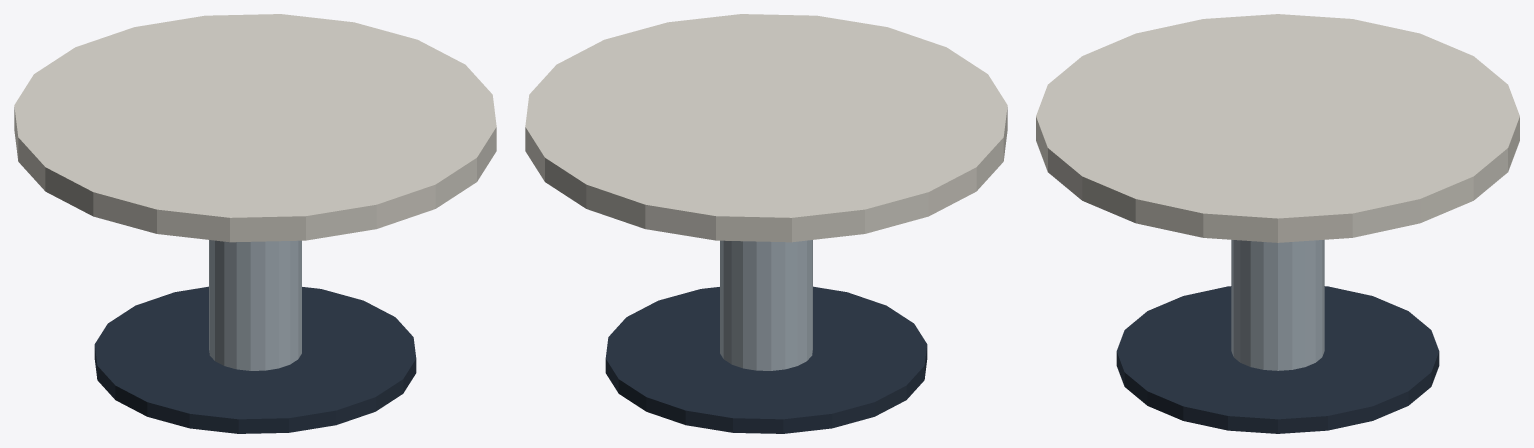
The model's file is lounge_04.glb.
The picture shows the model from 3 angles, left to right: view 1: azimuth 30°, elevation 25°; view 2: azimuth 150°, elevation 25°; view 3: azimuth 270°, elevation 25°; orthographic projection.
Parts seen in each view (by area): view 1: TableTop, MeetingFoot, Pedestal; view 2: TableTop, MeetingFoot, Pedestal; view 3: TableTop, MeetingFoot, Pedestal.
Part boxes in pixels (left/top/right/bottom): TableTop: left=14, top=14, right=496, bottom=242; MeetingFoot: left=94, top=286, right=416, bottom=433; Pedestal: left=209, top=240, right=301, bottom=370; TableTop: left=525, top=14, right=1007, bottom=242; MeetingFoot: left=605, top=286, right=927, bottom=433; Pedestal: left=720, top=240, right=812, bottom=370; TableTop: left=1036, top=14, right=1519, bottom=242; MeetingFoot: left=1116, top=286, right=1439, bottom=433; Pedestal: left=1231, top=239, right=1324, bottom=370.
Bounding box in the file's own units: 1.35 × 0.768 × 1.35.
